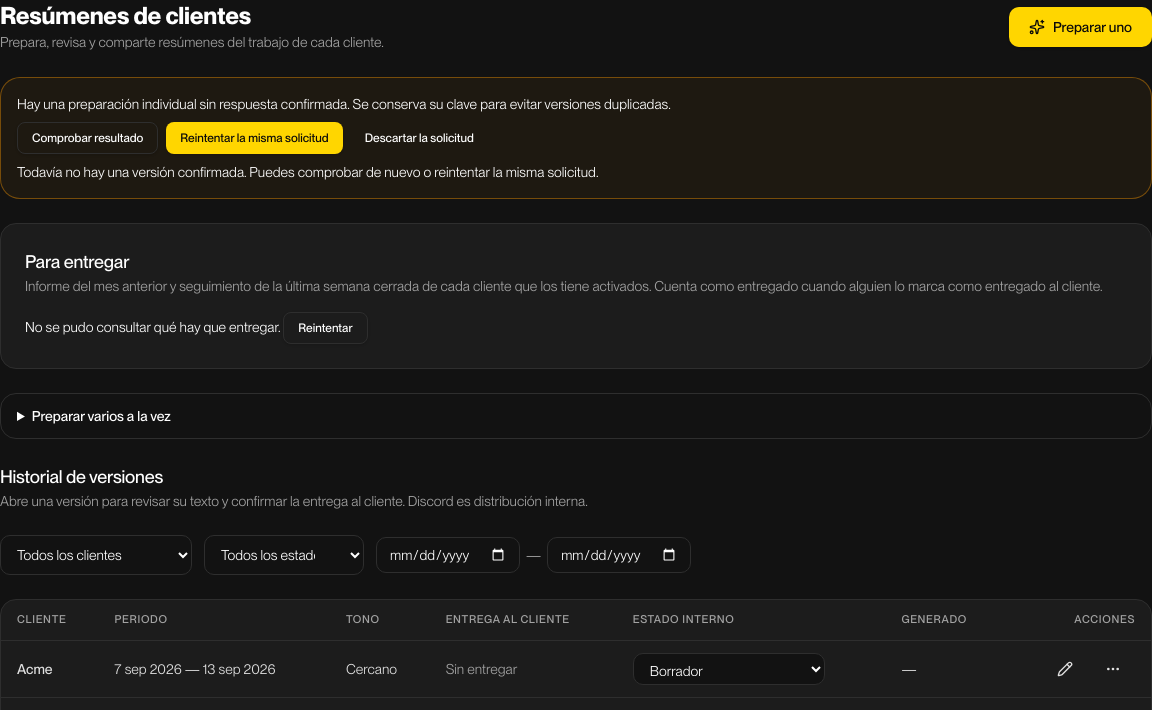
discards a stuck individual request once the server confirms nothing was created
Click the button "Descartar la solicitud" at coordinates (419, 138), box [351, 122, 488, 154]
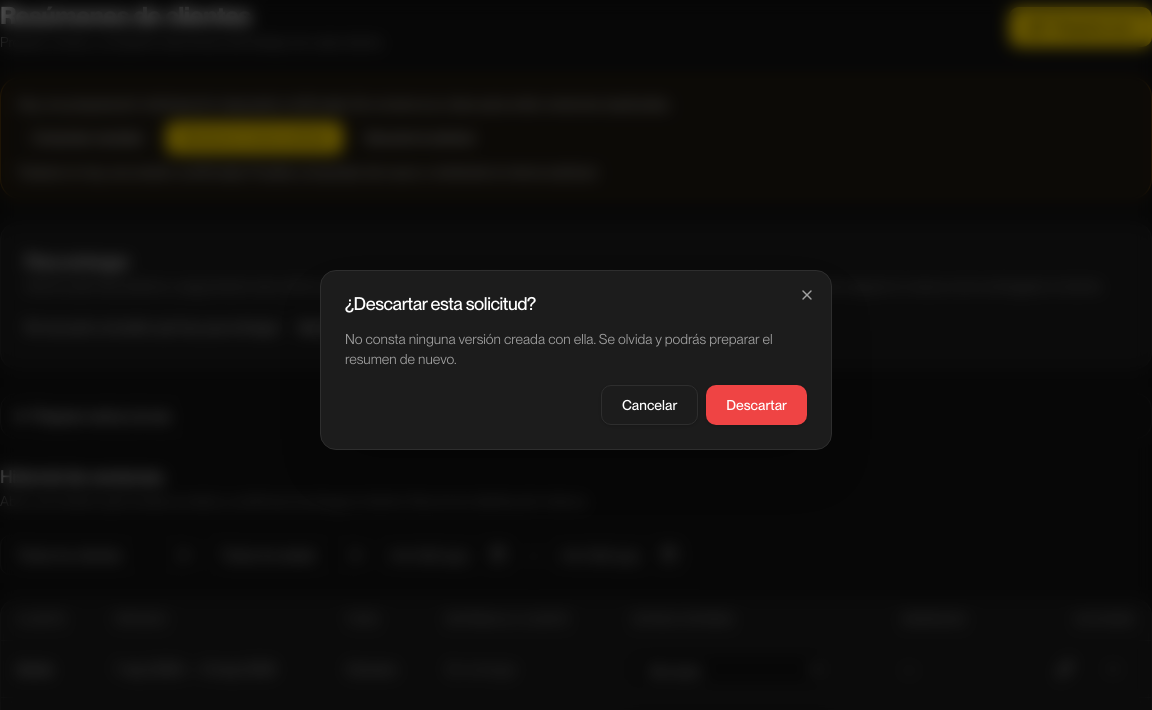
Click the button "Descartar" at coordinates (757, 405), box [706, 385, 807, 425]
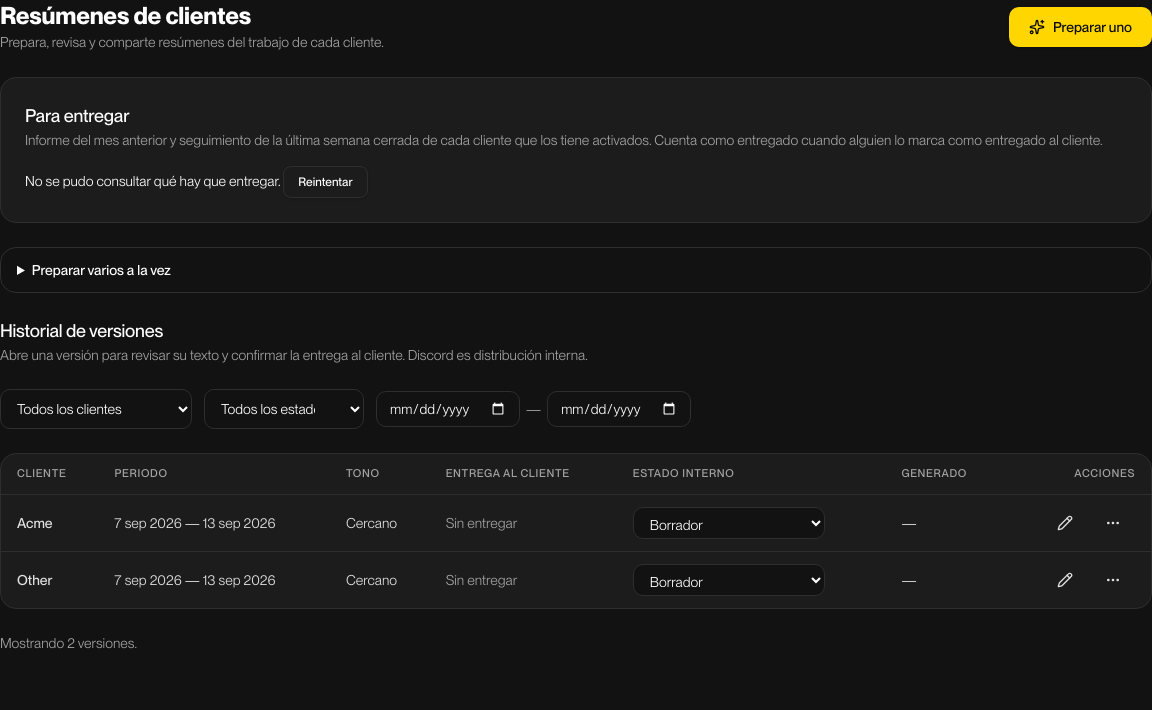
Expected: the text "sin respuesta confirmada" is gone
